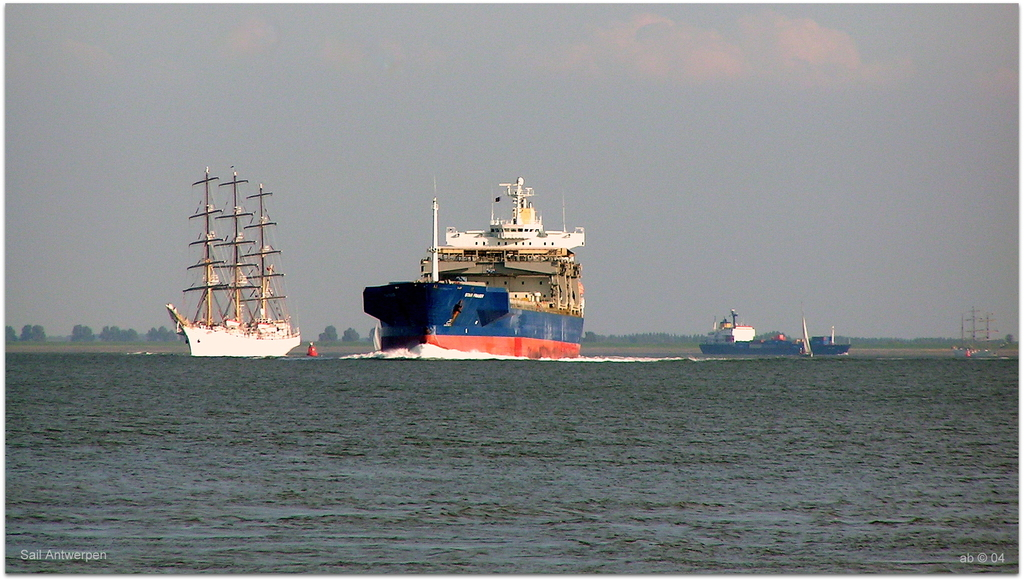boat: (349, 158, 617, 375), (154, 151, 312, 373), (689, 298, 811, 367), (792, 309, 864, 368)
